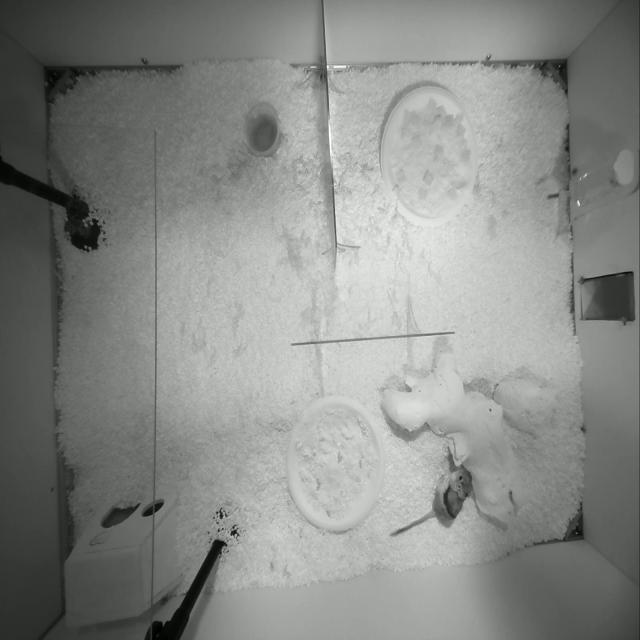adult_front: (390, 466, 472, 536)
